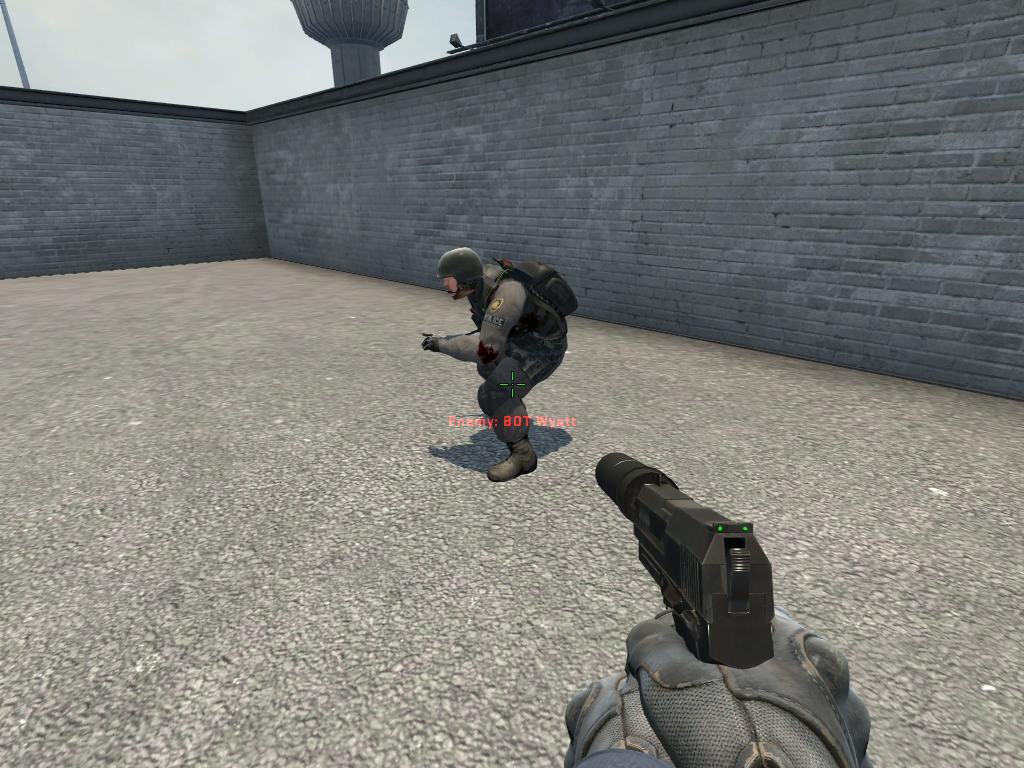ct head: (433, 244, 487, 307)
